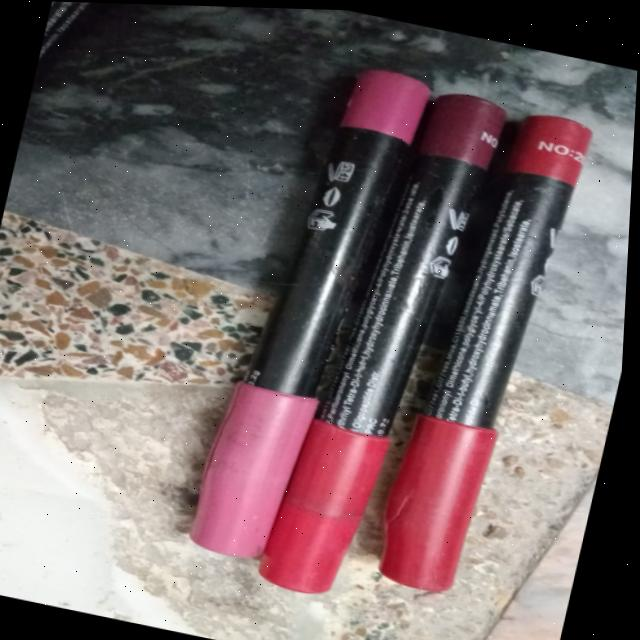lip liner: (161, 30, 615, 640)
